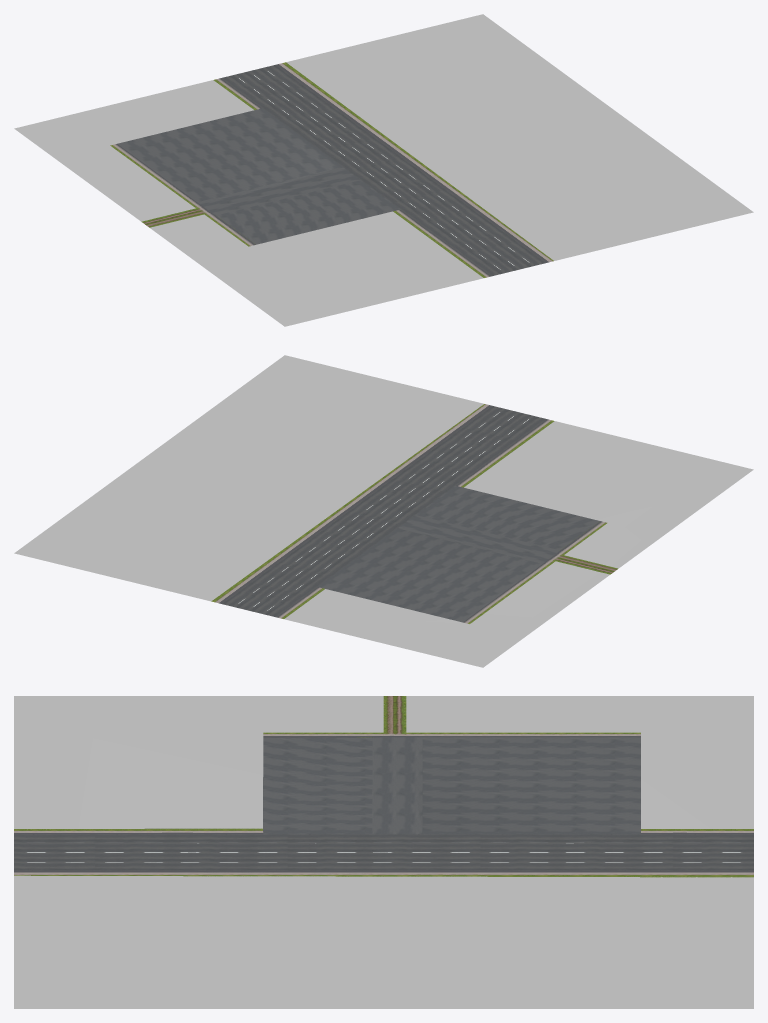
The model's file is road4.FBX.
The picture shows the model from 3 angles, top to bottom: view 1: azimuth 30°, elevation 25°; view 2: azimuth 150°, elevation 25°; view 3: azimuth 270°, elevation 25°; orthographic projection. The views are drawn at different scales.
Parts seen in each view (by area): view 1: road; view 2: road; view 3: road.
Part boxes in pixels (x1=…): road: x1=14, y1=14, x2=753, y2=326; road: x1=14, y1=355, x2=753, y2=667; road: x1=14, y1=696, x2=753, y2=1008.
Size of the model in its own units: 12000 by 3.5 by 12000.
